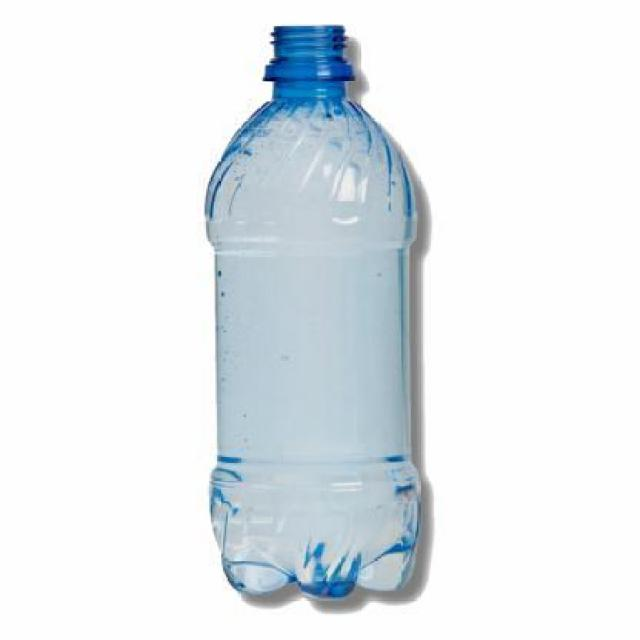bottle: (187, 6, 431, 608)
